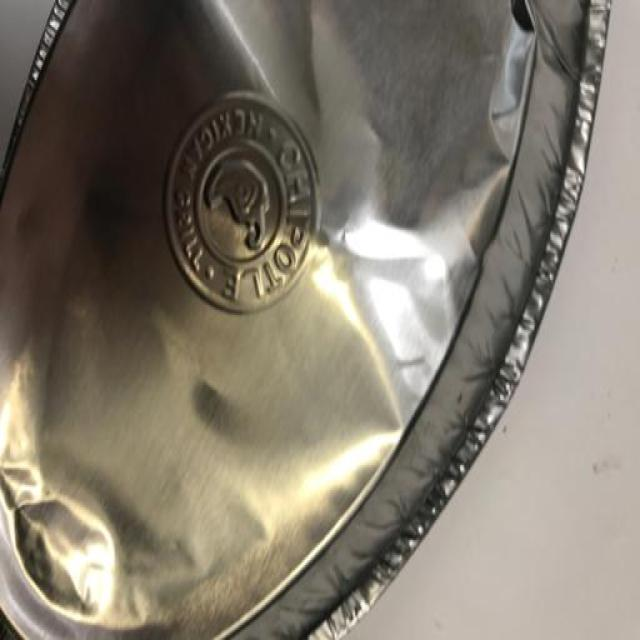Metal: (0, 0, 615, 640)
